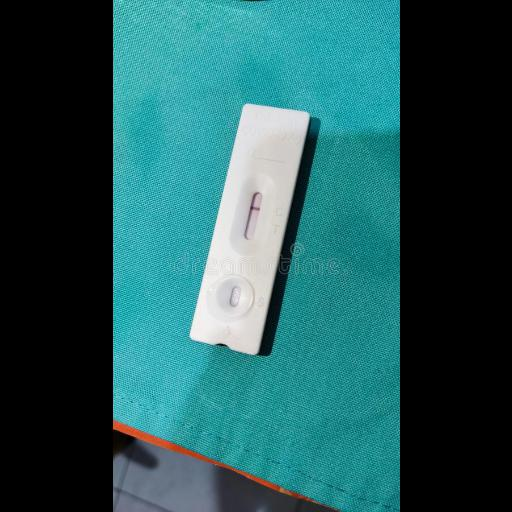Neg: (186, 102, 311, 357)
